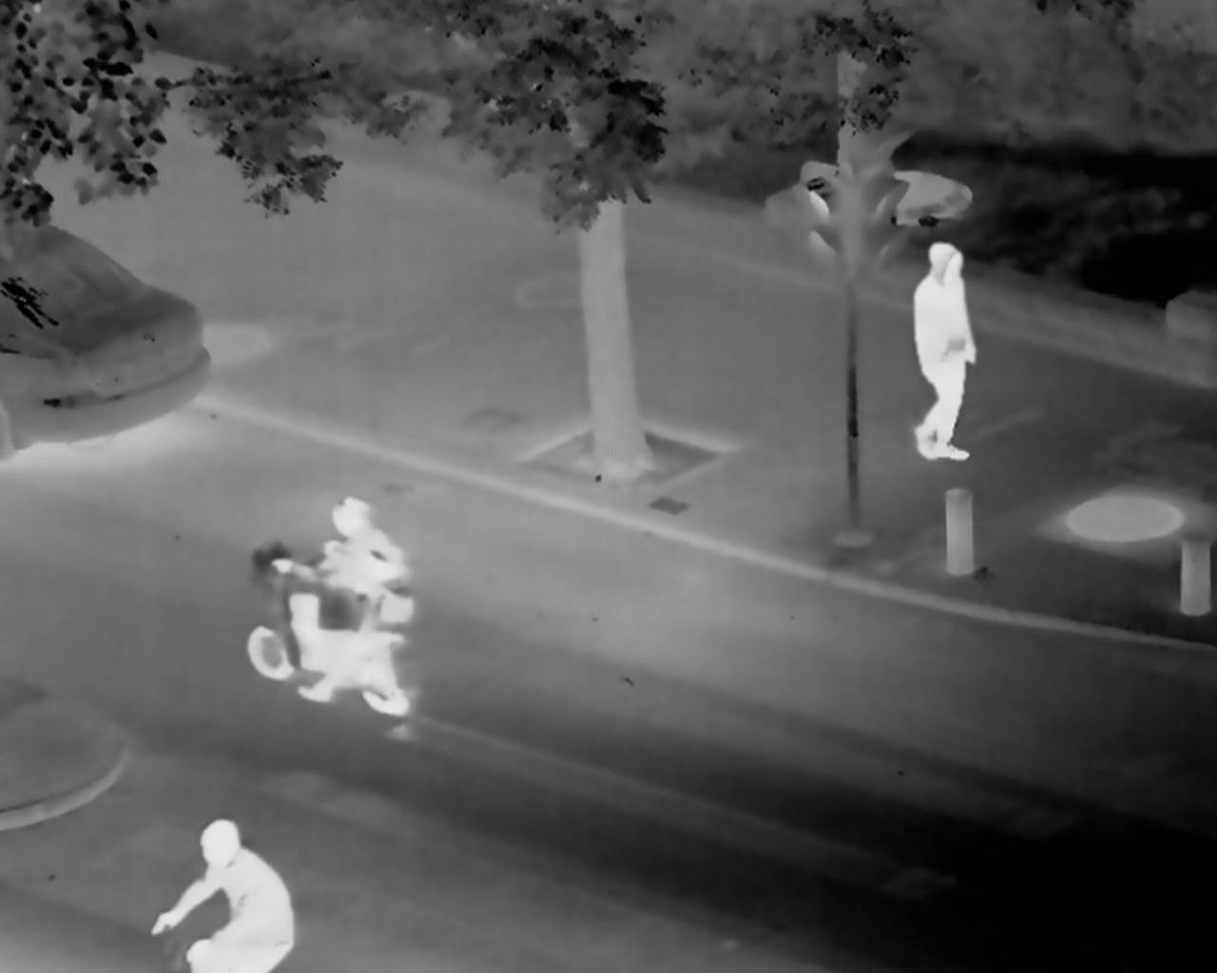person: (290, 494, 409, 718), (911, 242, 987, 464), (164, 822, 270, 973)
